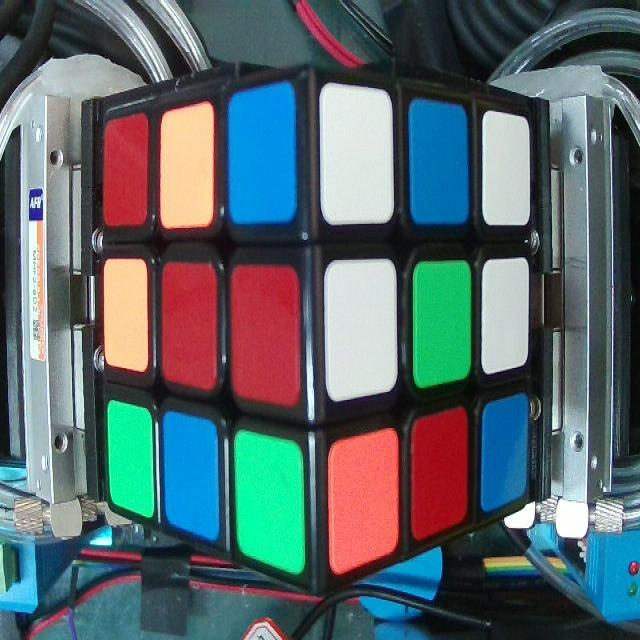b: (229, 100, 296, 222), (412, 104, 471, 218), (165, 416, 218, 534), (485, 395, 527, 501)
g: (237, 432, 301, 564), (416, 267, 473, 380), (109, 404, 153, 518)
o: (335, 447, 396, 552), (160, 115, 212, 223), (105, 263, 148, 371)
r: (234, 268, 298, 397), (164, 262, 213, 386), (414, 411, 464, 528), (104, 121, 146, 222)
w: (324, 86, 394, 217), (325, 264, 397, 388), (484, 113, 529, 223), (485, 261, 527, 367)
